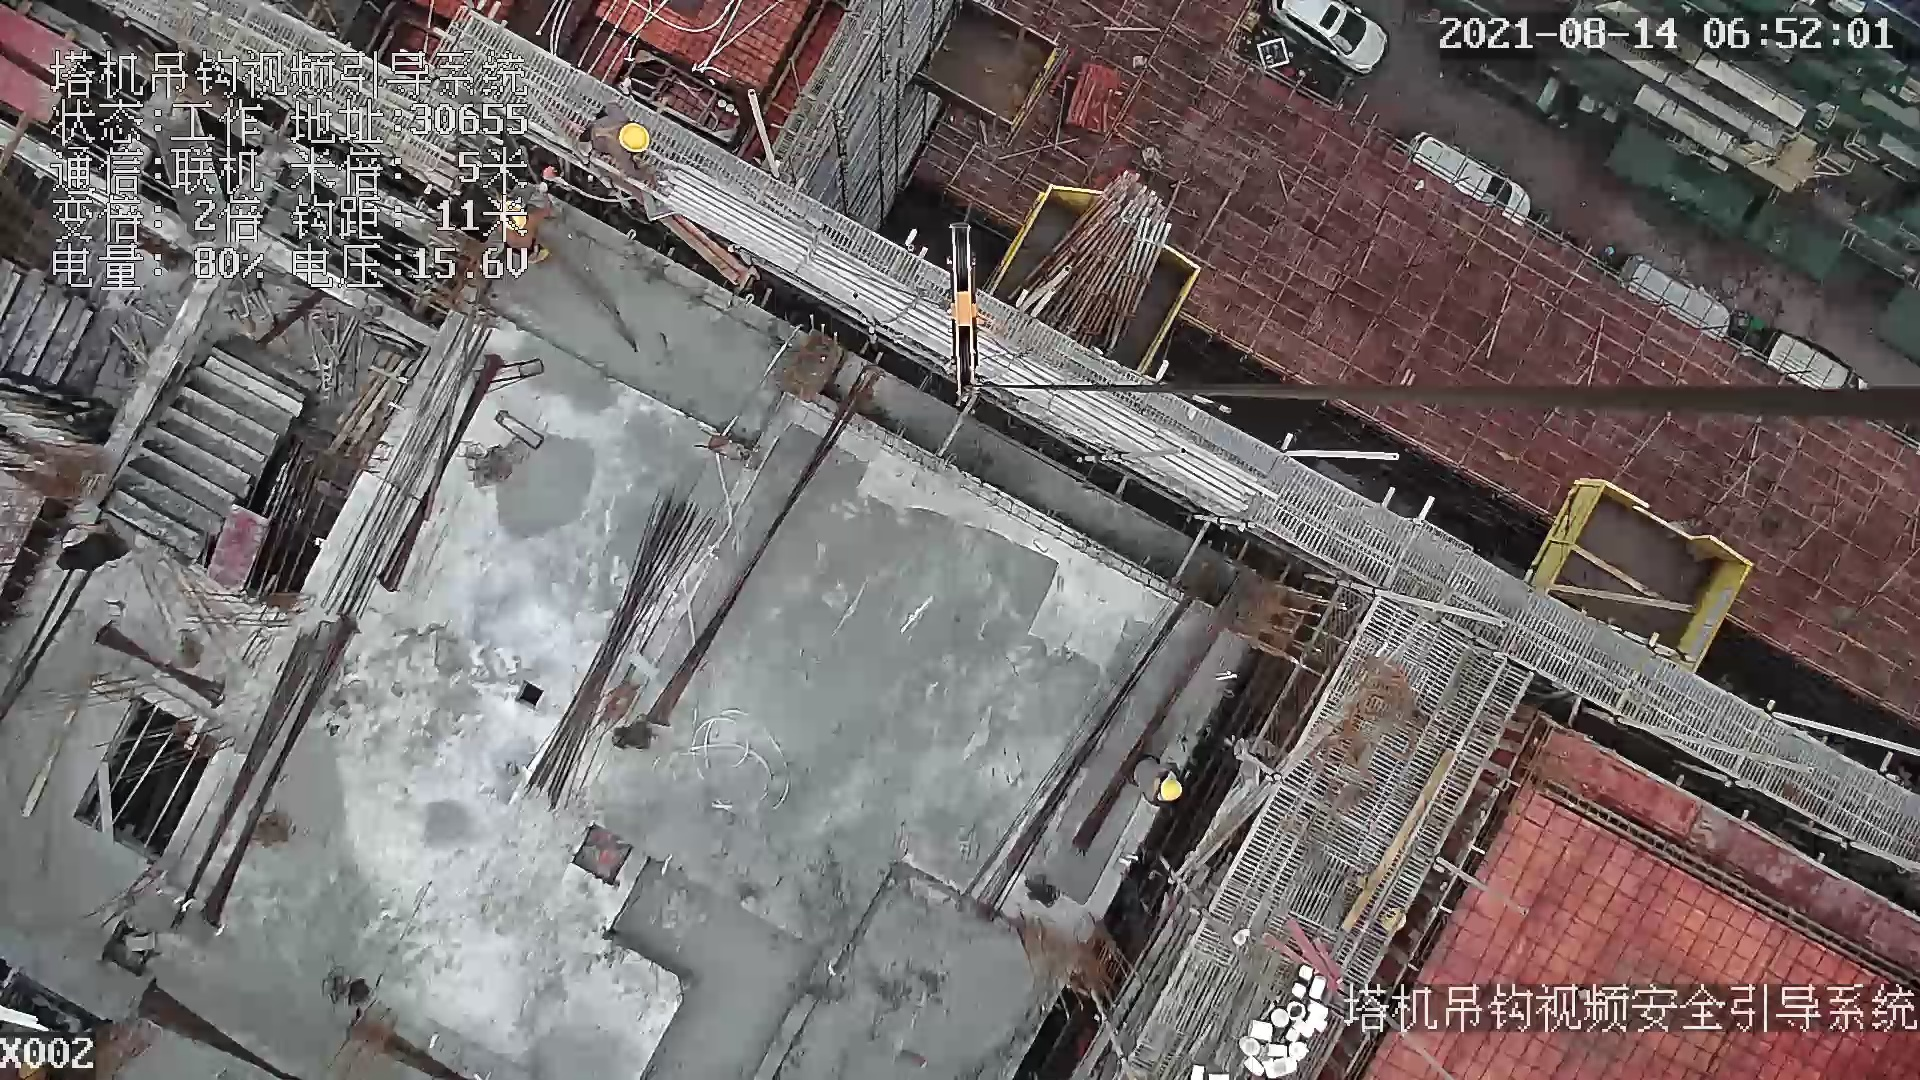helmet: (618, 123, 651, 153), (1160, 777, 1182, 802)
hook: (931, 219, 1001, 401)
person: (577, 99, 664, 191), (1120, 745, 1183, 812), (59, 526, 132, 576)
rebar: (656, 160, 1276, 516), (521, 487, 712, 810)
scaffold: (1008, 170, 1171, 364)
